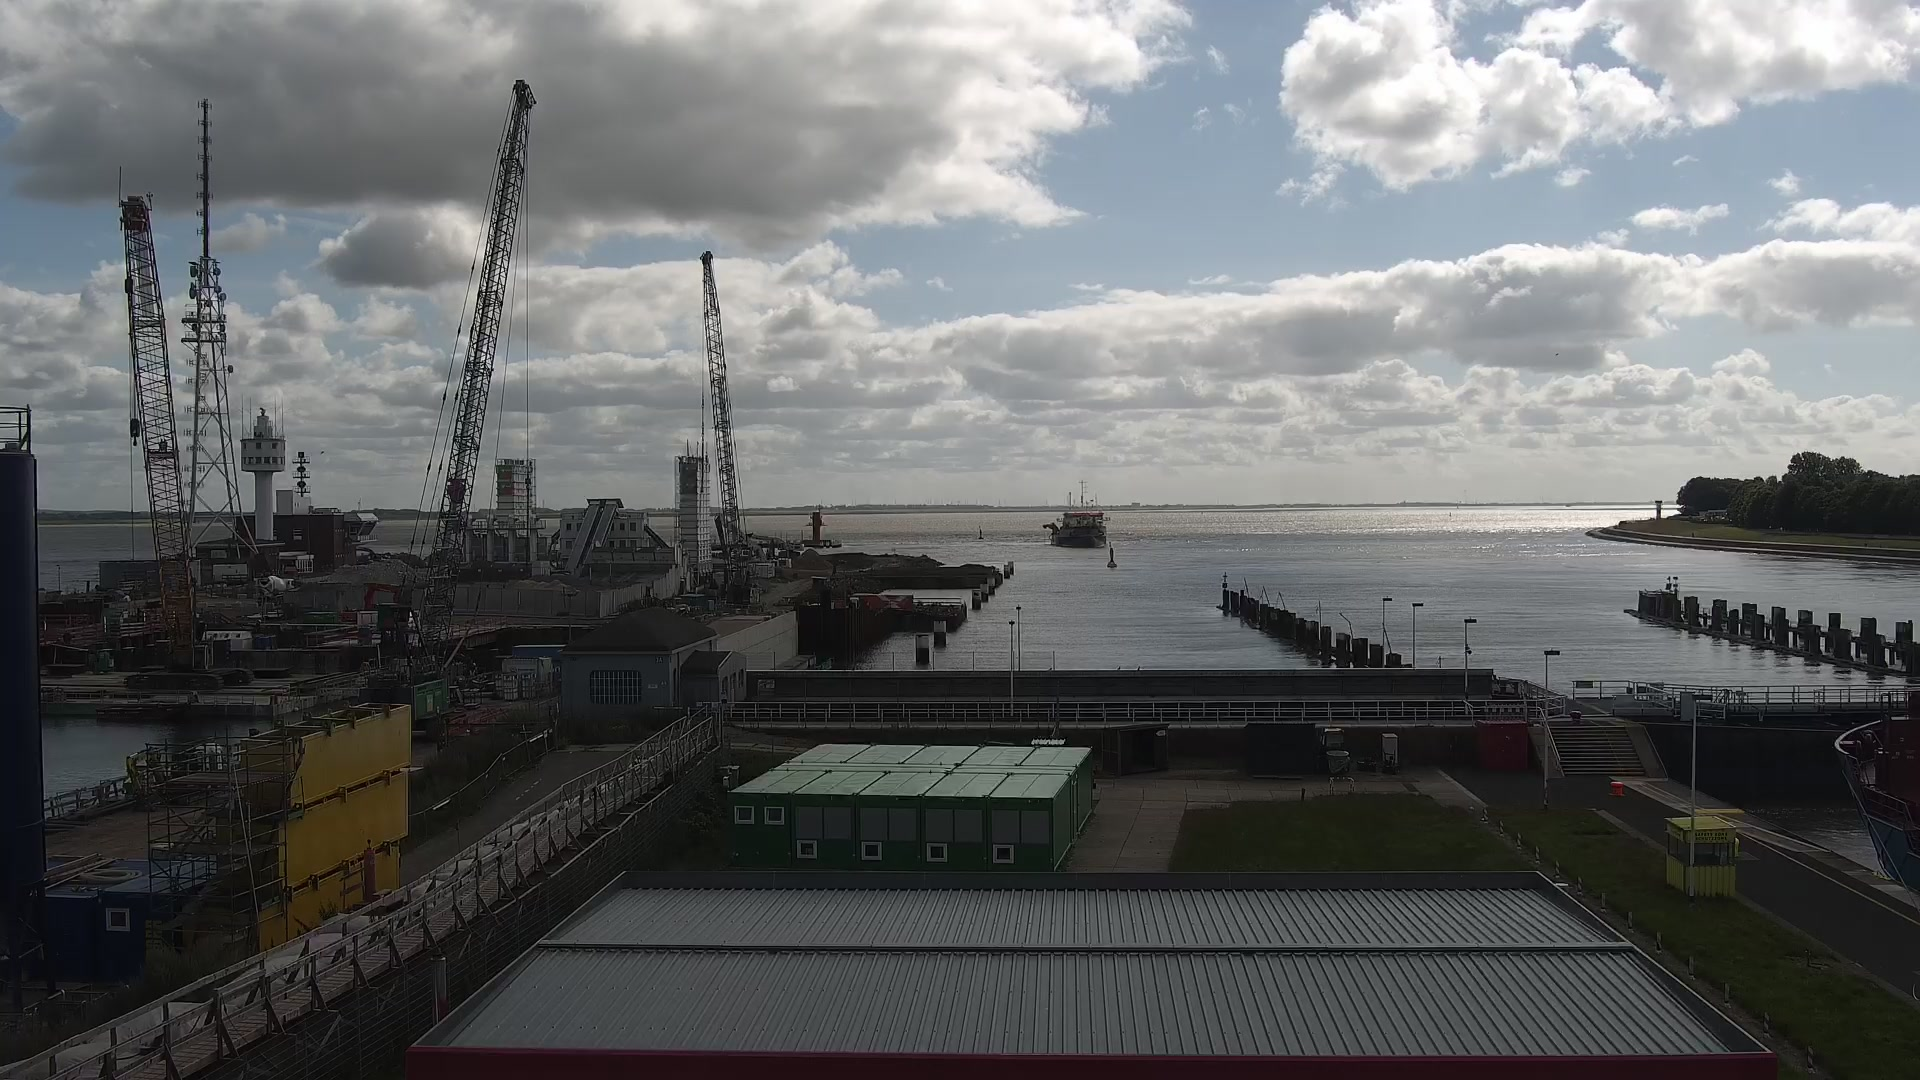sea: (1834, 709, 1920, 895), (1042, 479, 1110, 549)
